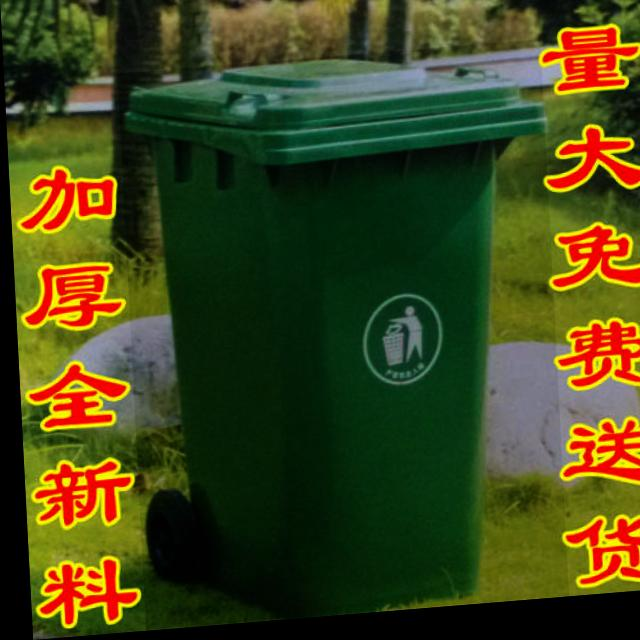garbage_bin: (116, 49, 562, 632)
